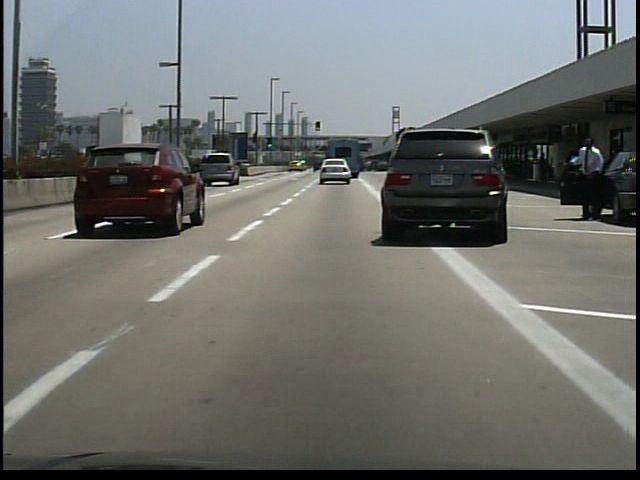person: (564, 134, 605, 224)
